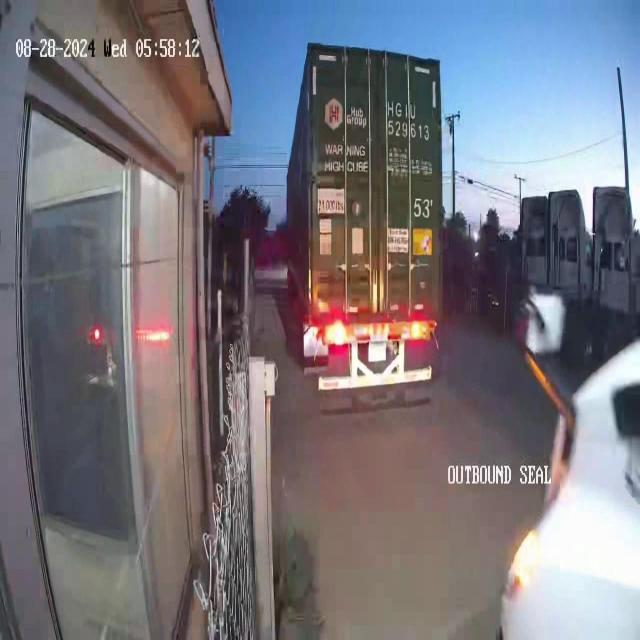TRUCK_OUT: (284, 41, 444, 393)
